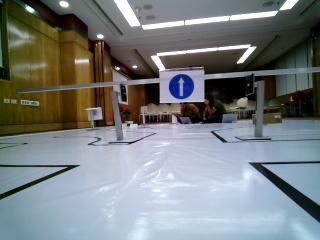straight: (160, 70, 204, 101)
